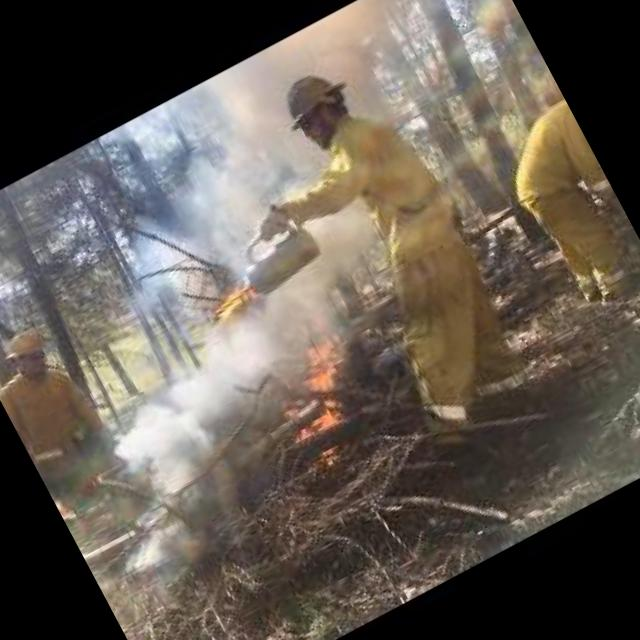fire: (242, 314, 396, 474), (206, 278, 253, 322)
smoke: (62, 279, 318, 502), (134, 56, 310, 230)
